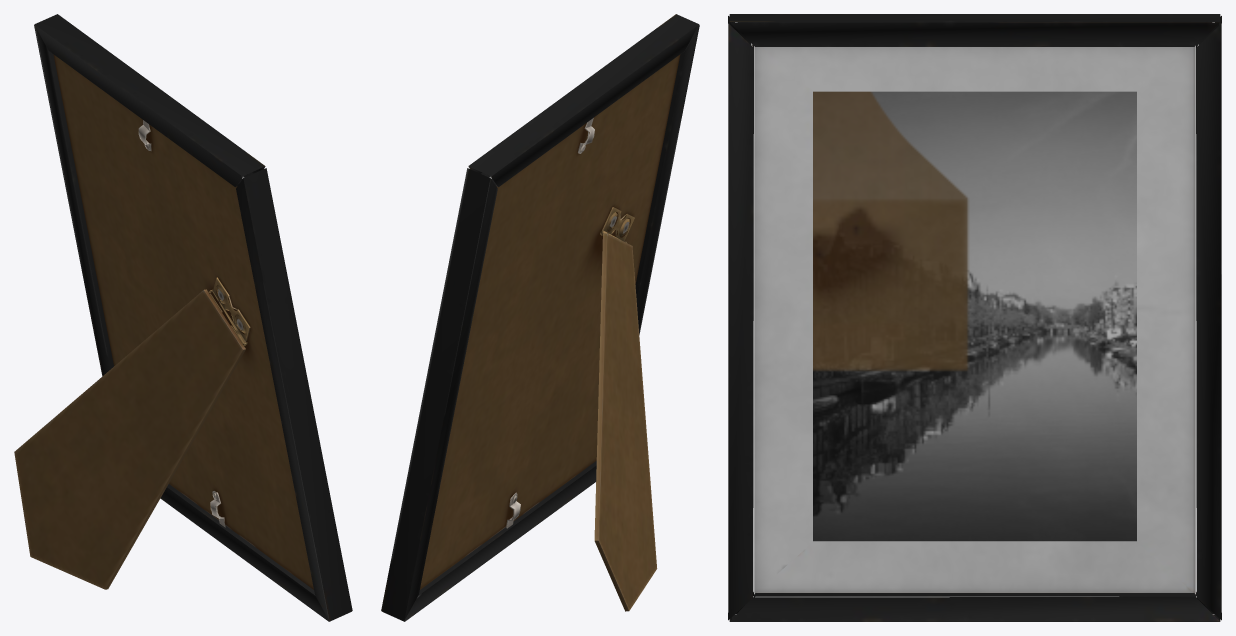
Rendered from standing_picture_frame_01.glb.
3 renders of one model, left to right at view 1: azimuth 30°, elevation 25°; view 2: azimuth 150°, elevation 25°; view 3: azimuth 270°, elevation 25°, orthographic. The views are drawn at different scales.
Visible parts, largest first — view 1: standing_picture_frame_01; view 2: standing_picture_frame_01; view 3: standing_picture_frame_01.
Part boxes in pixels (x1,y1,x2,y2): standing_picture_frame_01: [14, 14, 352, 621]; standing_picture_frame_01: [381, 14, 699, 621]; standing_picture_frame_01: [728, 14, 1221, 621].
Size of the model in its own units: 0.0999 by 0.2496 by 0.2004.
3 materials, 3 textured.
